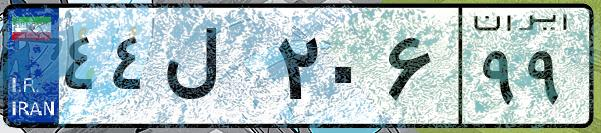0: (330, 28, 385, 110)
2: (270, 28, 330, 110)
4: (57, 26, 110, 100), (110, 28, 158, 98)
6: (385, 28, 445, 110)
9: (475, 38, 525, 113), (525, 38, 570, 115)
ل: (158, 20, 270, 120)
